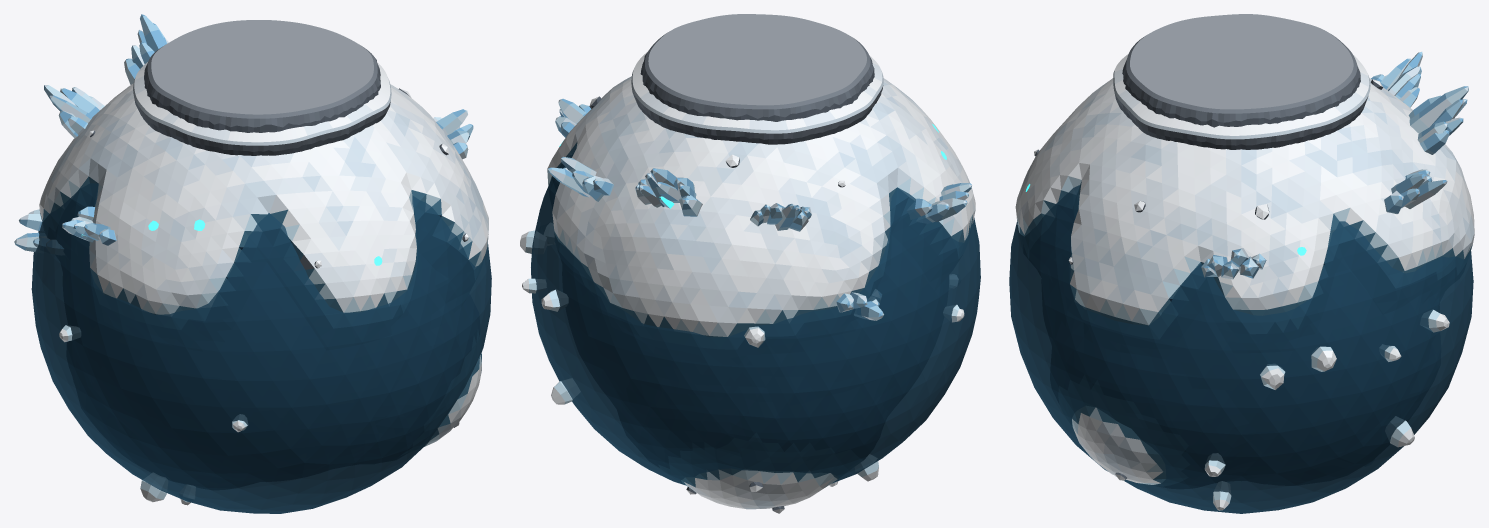
The model's file is 05_Frostharbor.glb.
3 renders of one model, left to right at view 1: azimuth 30°, elevation 25°; view 2: azimuth 150°, elevation 25°; view 3: azimuth 270°, elevation 25°, orthographic. The views are drawn at different scales.
Parts seen in each view (by area): view 1: Frostharbor_Body, Frostharbor_Ocean, Frostharbor_BuildArea, Frostharbor_Terraces, Frostharbor_Deco_Glaciers, Frostharbor_Deco_Icebergs; view 2: Frostharbor_Body, Frostharbor_Ocean, Frostharbor_BuildArea, Frostharbor_Deco_Glaciers, Frostharbor_Terraces, Frostharbor_Deco_Icebergs, Frostharbor_Deco_Rocks; view 3: Frostharbor_Body, Frostharbor_Ocean, Frostharbor_BuildArea, Frostharbor_Terraces, Frostharbor_Deco_Glaciers, Frostharbor_Deco_Icebergs.
Boxes of the visible parts, bbox=[...] form: Frostharbor_Body: bbox=[39, 83, 488, 489]; Frostharbor_Ocean: bbox=[31, 183, 491, 513]; Frostharbor_BuildArea: bbox=[144, 20, 380, 132]; Frostharbor_Terraces: bbox=[133, 62, 391, 155]; Frostharbor_Deco_Glaciers: bbox=[14, 14, 473, 254]; Frostharbor_Deco_Icebergs: bbox=[59, 325, 247, 505]; Frostharbor_Body: bbox=[547, 76, 975, 509]; Frostharbor_Ocean: bbox=[531, 154, 980, 485]; Frostharbor_BuildArea: bbox=[640, 14, 874, 121]; Frostharbor_Deco_Glaciers: bbox=[547, 98, 971, 320]; Frostharbor_Terraces: bbox=[631, 52, 883, 144]; Frostharbor_Deco_Icebergs: bbox=[520, 223, 964, 486]; Frostharbor_Deco_Rocks: bbox=[589, 96, 845, 513]; Frostharbor_Body: bbox=[1015, 78, 1474, 488]; Frostharbor_Ocean: bbox=[1009, 185, 1473, 513]; Frostharbor_BuildArea: bbox=[1122, 14, 1360, 127]; Frostharbor_Terraces: bbox=[1113, 54, 1370, 149]; Frostharbor_Deco_Glaciers: bbox=[1201, 52, 1468, 279]; Frostharbor_Deco_Icebergs: bbox=[1204, 309, 1449, 510].
Size of the model in its own units: 2.07 by 2.04 by 2.
